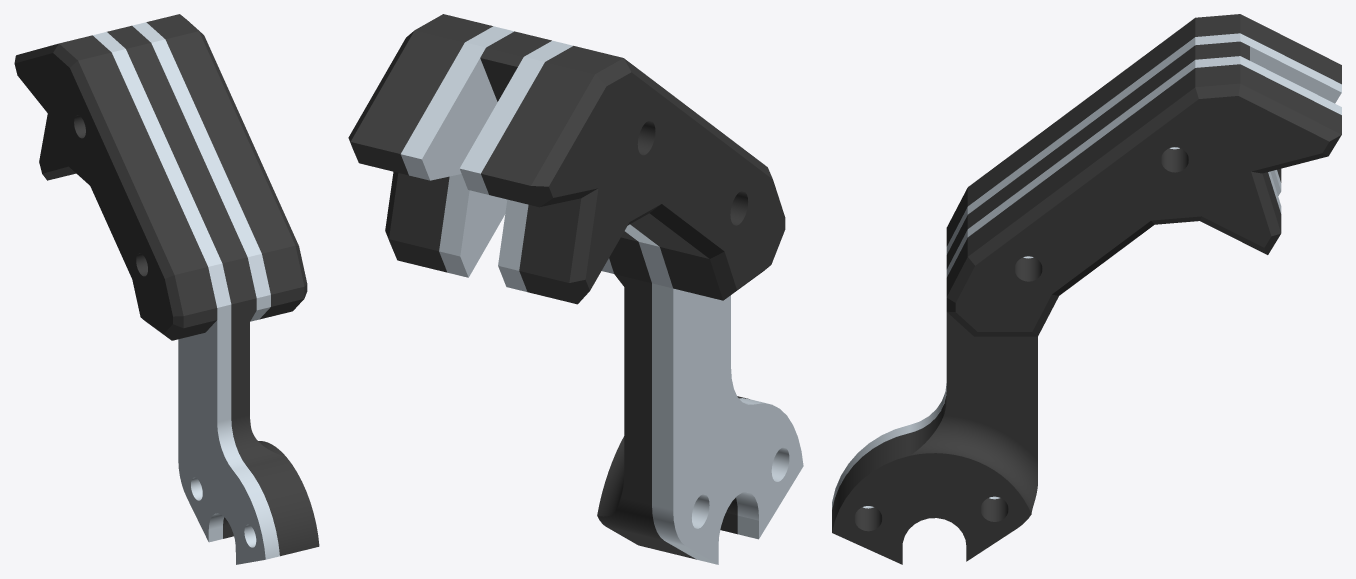
File: Left Claw.glb
3 renders of one model, left to right at view 1: azimuth 30°, elevation 25°; view 2: azimuth 150°, elevation 25°; view 3: azimuth 270°, elevation 25°, orthographic. The views are drawn at different scales.
Parts seen in each view (by area): view 1: Left Claw; view 2: Left Claw; view 3: Left Claw.
Part boxes in pixels (bbox=[...]): Left Claw: bbox=[14, 14, 319, 564]; Left Claw: bbox=[348, 14, 803, 564]; Left Claw: bbox=[832, 14, 1341, 564].
Size of the model in its own units: 0.03 by 0.0907 by 0.0837.
